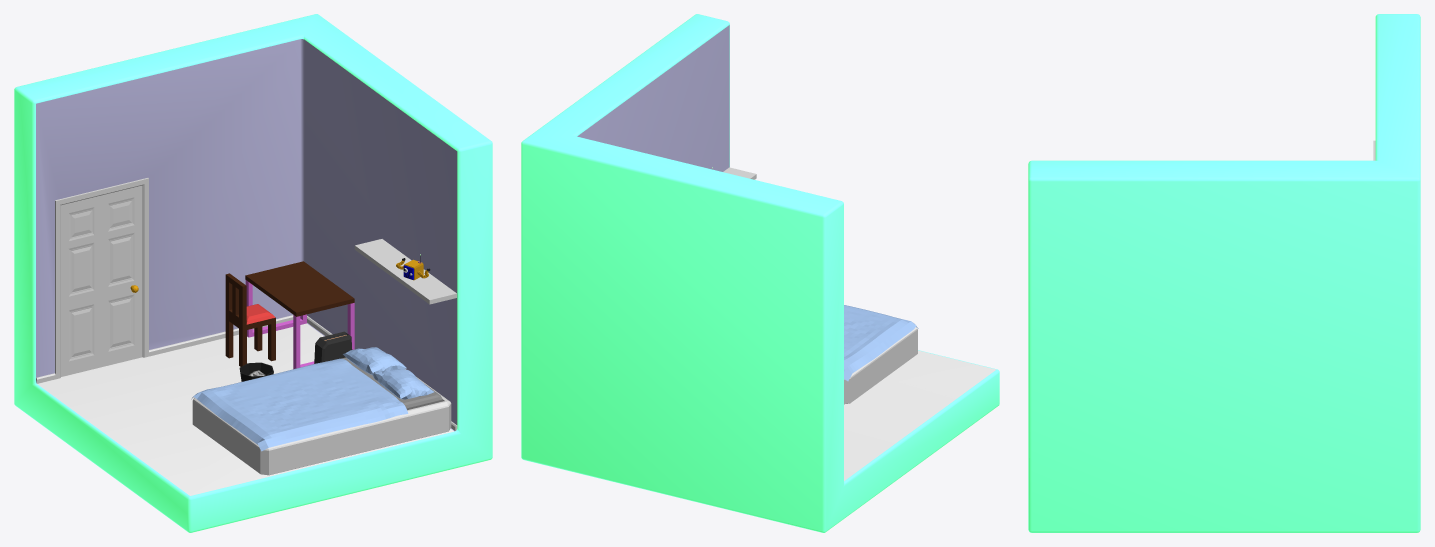
The model's file is CozyRoom_2.glb.
3 renders of one model, left to right at view 1: azimuth 30°, elevation 25°; view 2: azimuth 150°, elevation 25°; view 3: azimuth 270°, elevation 25°, orthographic. The views are drawn at different scales.
Parts seen in each view (by area): view 1: Cube.026, Cube.004, Plane.002, Cube.002, Cube.019, Cube.023, Cube.008, Cube.007, Plane.004, Cube.005, Plane.003, Cube.013 (+2 smaller); view 2: Cube.026, Plane.002, Cube.002; view 3: Cube.026.
Part boxes in pixels (<box>): Cube.026: <box>14,14,492,532</box>; Cube.004: <box>61,185,142,376</box>; Plane.002: <box>191,358,408,451</box>; Cube.002: <box>192,357,451,475</box>; Cube.019: <box>245,261,354,369</box>; Cube.023: <box>225,273,275,366</box>; Cube.008: <box>354,239,456,304</box>; Cube.007: <box>142,178,148,357</box>; Plane.004: <box>372,369,433,399</box>; Cube.005: <box>55,199,60,379</box>; Plane.003: <box>343,347,406,374</box>; Cube.013: <box>314,331,352,363</box>; Cube.026: <box>521,14,999,532</box>; Plane.002: <box>844,305,918,381</box>; Cube.002: <box>844,327,917,404</box>; Cube.026: <box>1028,14,1420,532</box>.
Bounding box in the file's own units: 2.26 × 2.26 × 2.26.
